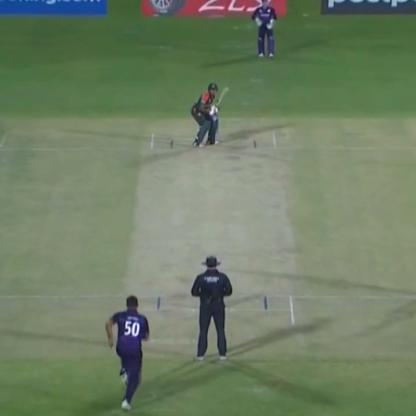bat: (202, 80, 235, 122)
pitch: (132, 124, 300, 343)
